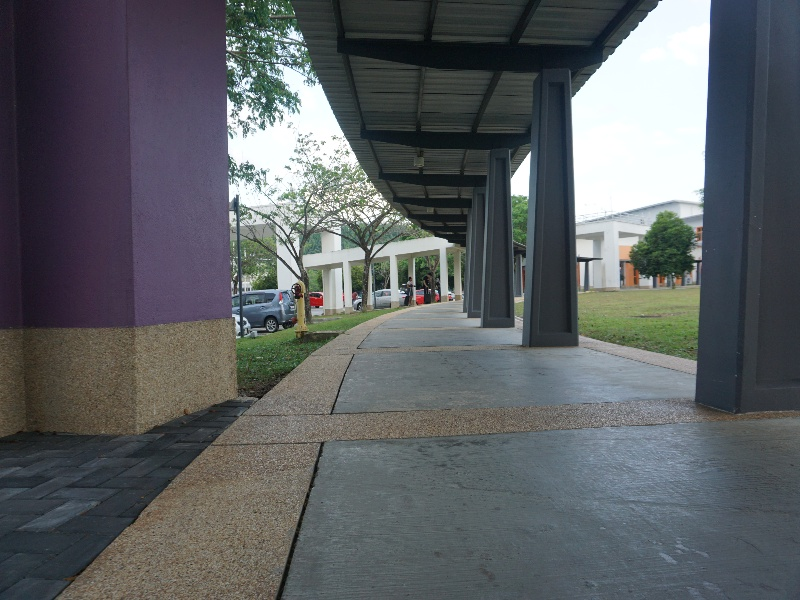Block D Pillar 7: (2, 7, 800, 514)
pillar: (3, 7, 252, 446), (688, 5, 800, 414), (524, 65, 590, 350), (481, 137, 513, 333)
